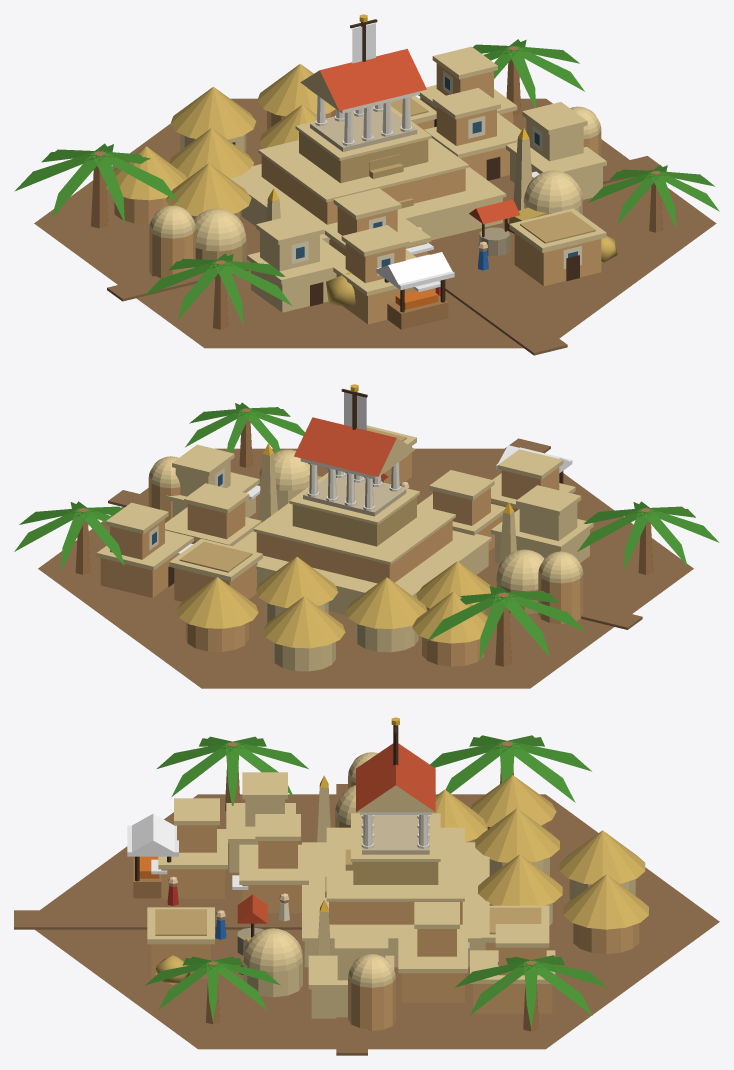
Rendered from capital_0_4.fbx.
3 renders of one model, top to bottom at view 1: azimuth 30°, elevation 25°; view 2: azimuth 150°, elevation 25°; view 3: azimuth 270°, elevation 25°, orthographic. The views are drawn at different scales.
Parts seen in each view (by area): view 1: capital_0_4; view 2: capital_0_4; view 3: capital_0_4.
Boxes of the visible parts, x1,y1,x2,y2 form: capital_0_4: (14,14,719,355); capital_0_4: (14,384,719,688); capital_0_4: (14,717,719,1055).
Bounding box in the file's own units: 201 × 67.4 × 213.
